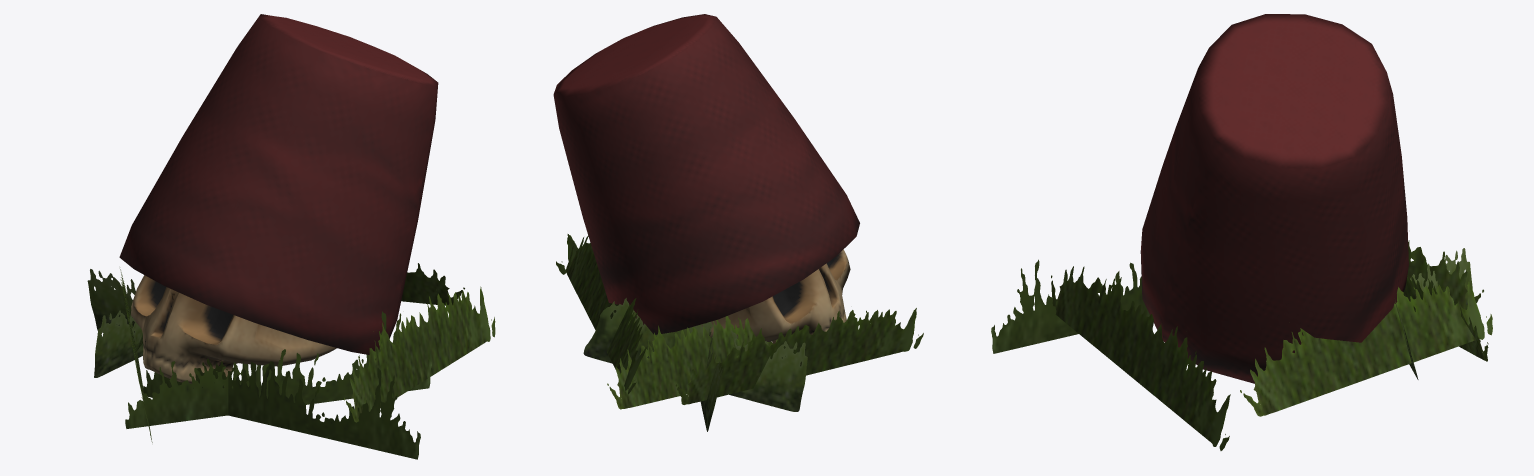
The model's file is Skull.fbx.
3 renders of one model, left to right at view 1: azimuth 30°, elevation 25°; view 2: azimuth 150°, elevation 25°; view 3: azimuth 270°, elevation 25°, orthographic. The views are drawn at different scales.
Parts seen in each view (by area): view 1: pasted__Hat_Mesh, skull, pPlane6, pPlane3, pPlane2, pPlane4, pPlane8, pPlane7, pPlane1; view 2: pasted__Hat_Mesh, pPlane1, pPlane5, skull, pPlane4, pPlane7, pPlane8; view 3: pasted__Hat_Mesh, pPlane7, pPlane3, pPlane6, pPlane1, pPlane5, pPlane8.
Part boxes in pixels (x1=…): pasted__Hat_Mesh: x1=119, y1=14, x2=438, y2=354; skull: x1=131, y1=275, x2=336, y2=383; pPlane6: x1=143, y1=355, x2=420, y2=459; pPlane3: x1=344, y1=286, x2=495, y2=422; pPlane2: x1=125, y1=311, x2=431, y2=428; pPlane4: x1=94, y1=310, x2=143, y2=377; pPlane8: x1=87, y1=269, x2=135, y2=332; pPlane7: x1=401, y1=263, x2=464, y2=305; pPlane1: x1=120, y1=269, x2=152, y2=442; pasted__Hat_Mesh: x1=553, y1=14, x2=859, y2=334; pPlane1: x1=675, y1=308, x2=923, y2=404; pPlane5: x1=607, y1=316, x2=777, y2=409; skull: x1=701, y1=249, x2=850, y2=343; pPlane4: x1=583, y1=298, x2=807, y2=411; pPlane7: x1=566, y1=235, x2=647, y2=394; pPlane8: x1=700, y1=323, x2=722, y2=431; pasted__Hat_Mesh: x1=1140, y1=14, x2=1408, y2=383; pPlane7: x1=1240, y1=281, x2=1492, y2=416; pPlane3: x1=1051, y1=266, x2=1230, y2=450; pPlane6: x1=991, y1=259, x2=1149, y2=353; pPlane1: x1=1407, y1=240, x2=1483, y2=309; pPlane5: x1=1403, y1=274, x2=1488, y2=361; pPlane8: x1=1410, y1=248, x2=1472, y2=305.
Bounding box in the file's own units: 2.41 × 1.95 × 2.58.
2 materials, 2 textured.
